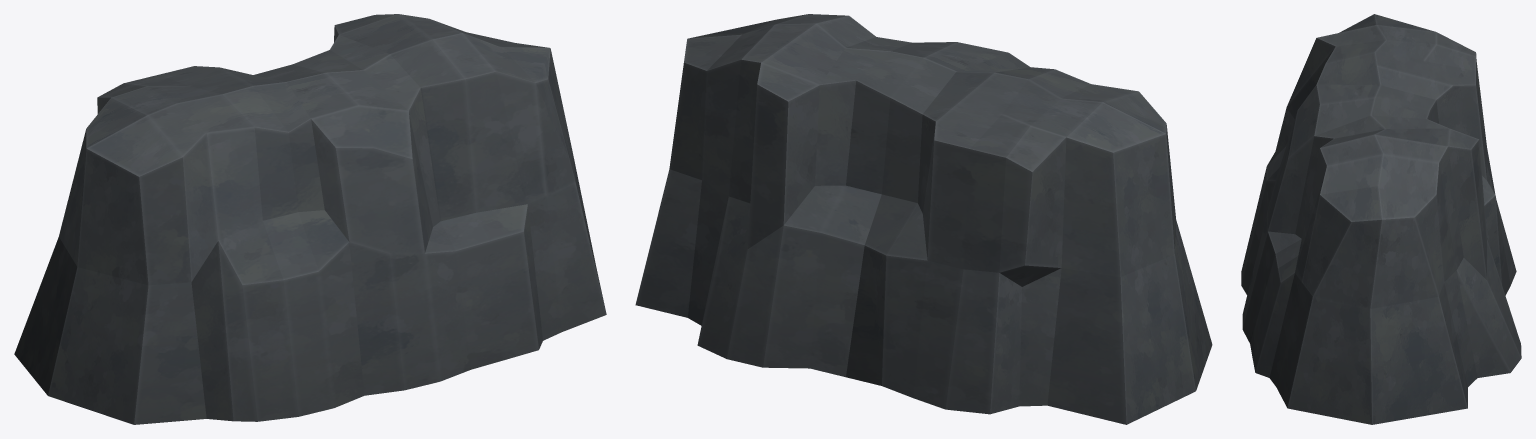
Rendered from stylized_rocks.glb.
3 views of the same model, side by side, from view 1: azimuth 30°, elevation 25°; view 2: azimuth 150°, elevation 25°; view 3: azimuth 270°, elevation 25° (orthographic). The views are drawn at different scales.
Parts seen in each view (by area): view 1: Cube.016; view 2: Cube.016; view 3: Cube.016.
Part boxes in pixels (x1,y1,x2,y2): Cube.016: [14, 14, 606, 424]; Cube.016: [635, 14, 1212, 424]; Cube.016: [1241, 14, 1521, 424].
Size of the model in its own units: 31.84 by 14.98 by 17.
1 material, 1 textured.
